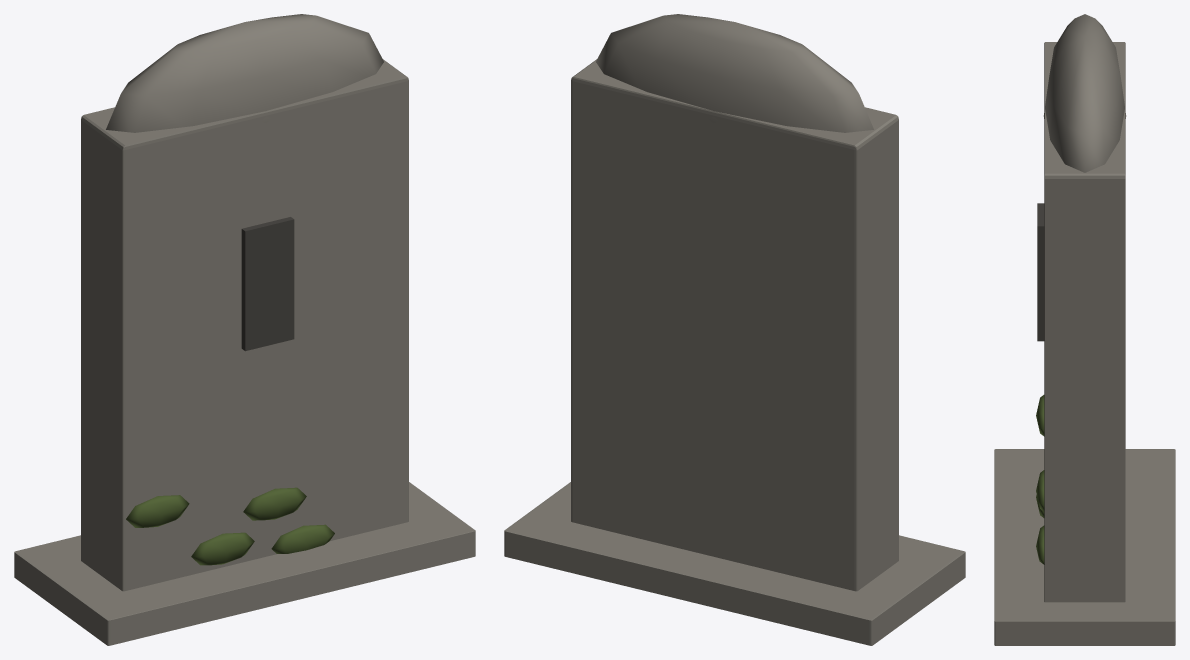
File: grabstein.glb
3 views of the same model, side by side, from view 1: azimuth 30°, elevation 25°; view 2: azimuth 150°, elevation 25°; view 3: azimuth 270°, elevation 25° (orthographic). The views are drawn at different scales.
Parts seen in each view (by area): view 1: Cube; view 2: Cube; view 3: Cube.
Boxes of the visible parts, <box> form: Cube: <box>14,14,475,645</box>; Cube: <box>504,14,965,645</box>; Cube: <box>994,14,1175,645</box>.
Bounding box in the file's own units: 0.9 × 1.27 × 0.4.
